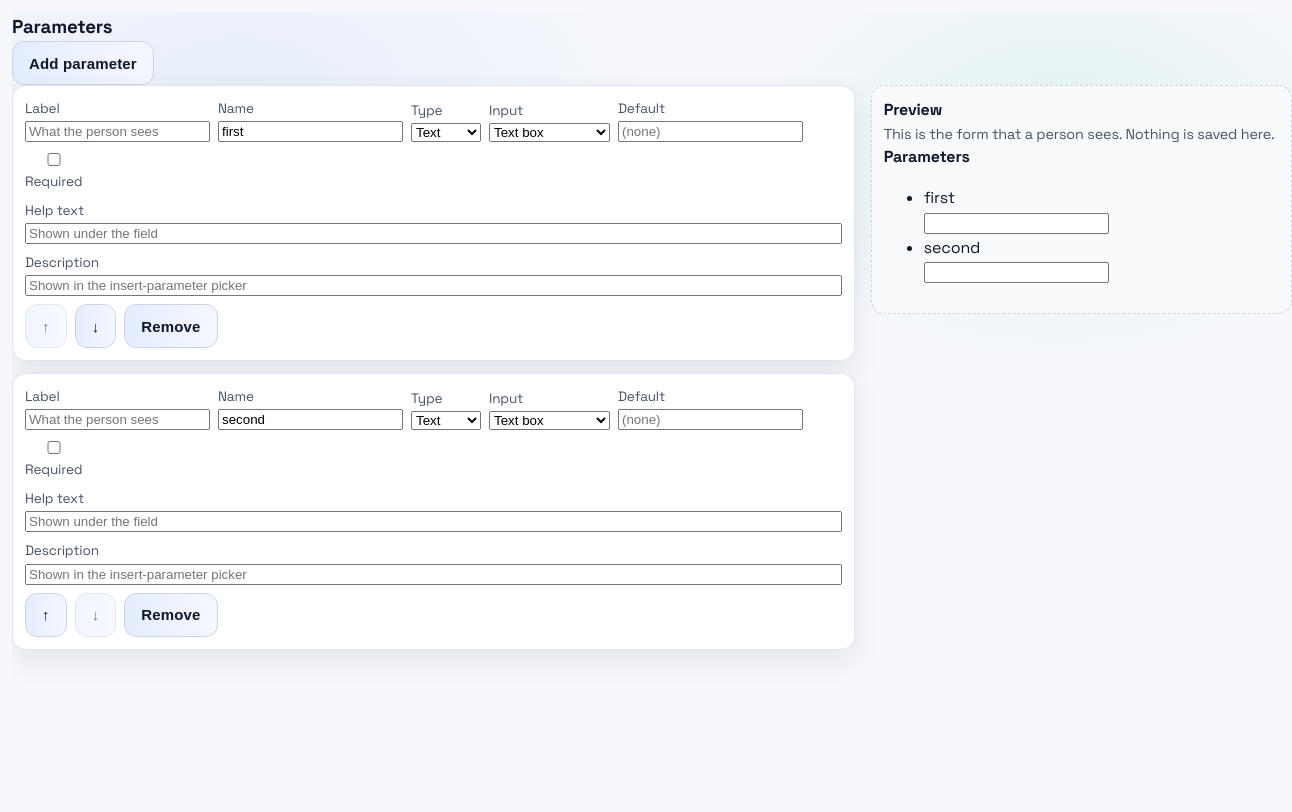
ParameterDeclarationList › reorders parameters
The width and height of the screenshot is (1292, 812).
Click the button named "Move second up" at (46,614), box [25,592,67,636]
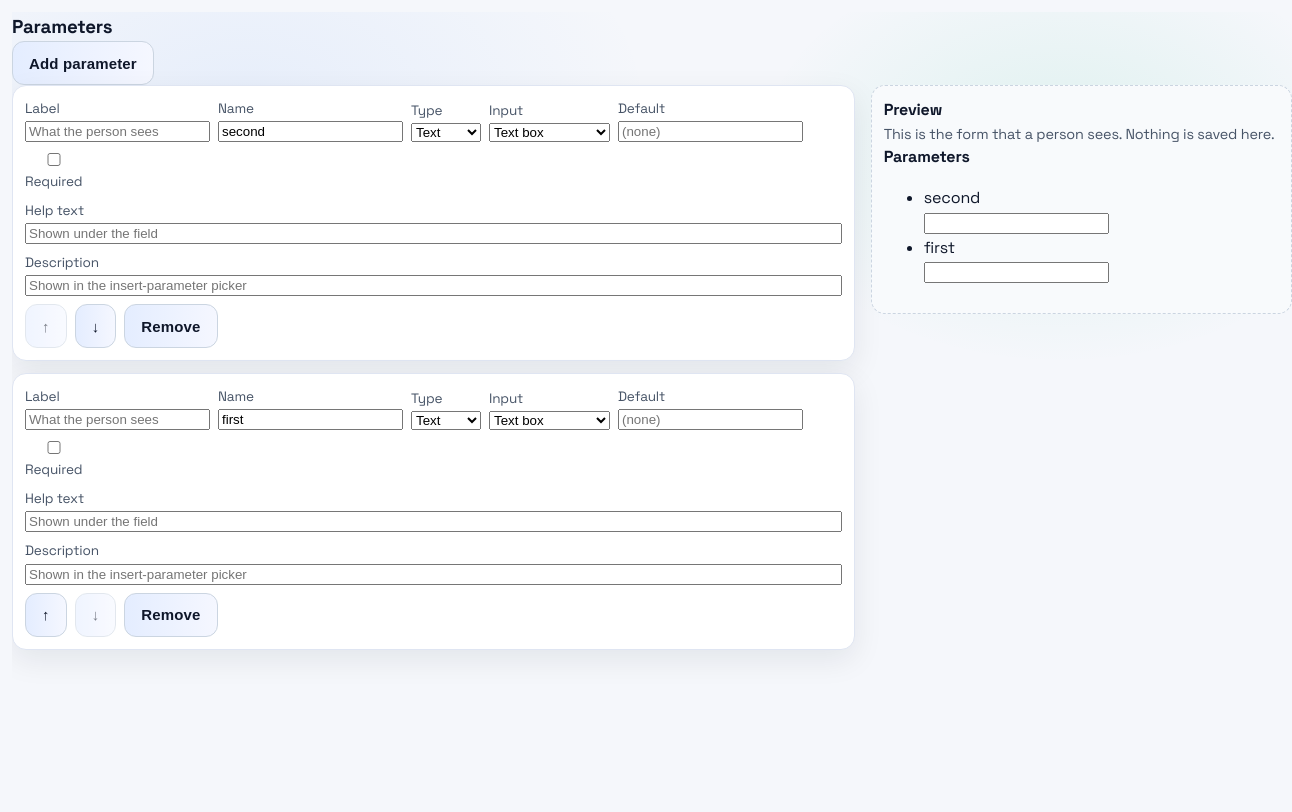
expect the field named "Parameter 1 name" holds "second": met, box [218,121,403,142]
expect the field named "Parameter 2 name" holds "first": met, box [218,409,403,430]
